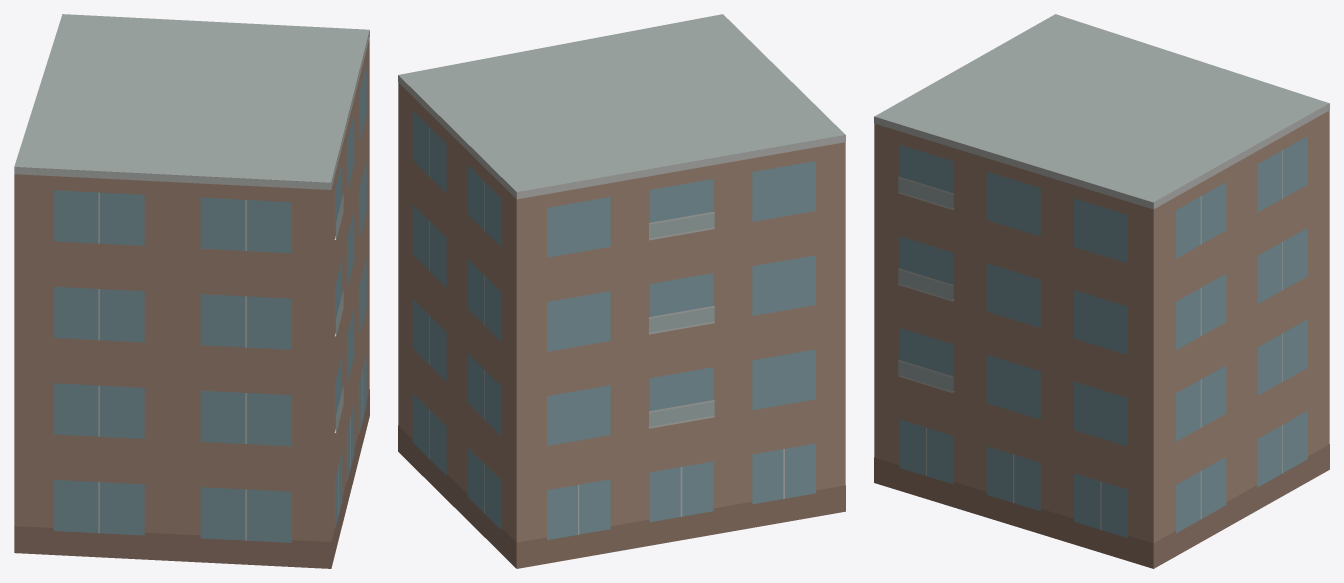
File: survey-upis-32696589.glb
3 renders of one model, left to right at view 1: azimuth 30°, elevation 25°; view 2: azimuth 150°, elevation 25°; view 3: azimuth 270°, elevation 25°, orthographic. The views are drawn at different scales.
Parts seen in each view (by area): view 1: survey-upis-32696589.tmp; view 2: survey-upis-32696589.tmp; view 3: survey-upis-32696589.tmp.
Part boxes in pixels (bbox=[...]): survey-upis-32696589.tmp: bbox=[14, 14, 369, 568]; survey-upis-32696589.tmp: bbox=[398, 14, 845, 568]; survey-upis-32696589.tmp: bbox=[874, 14, 1329, 568].
Bounding box in the file's own units: 14.25 × 12.9 × 14.55.
